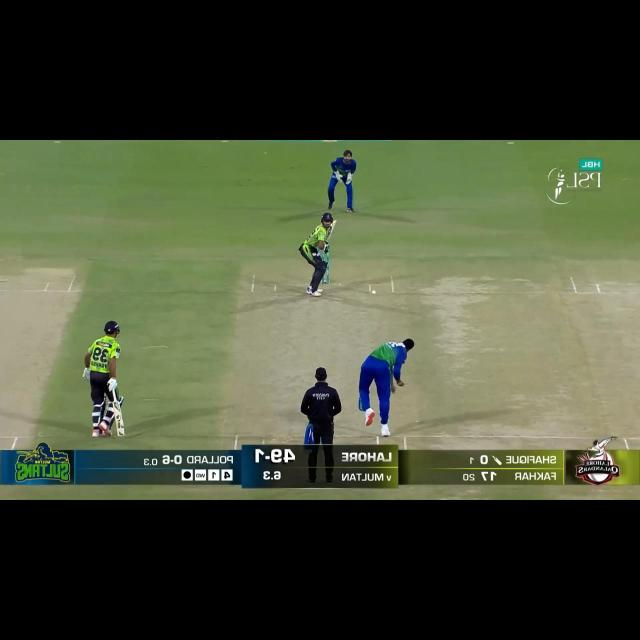bat: (112, 401, 130, 437), (322, 219, 337, 245)
toe: (116, 425, 126, 437), (330, 220, 339, 228)
